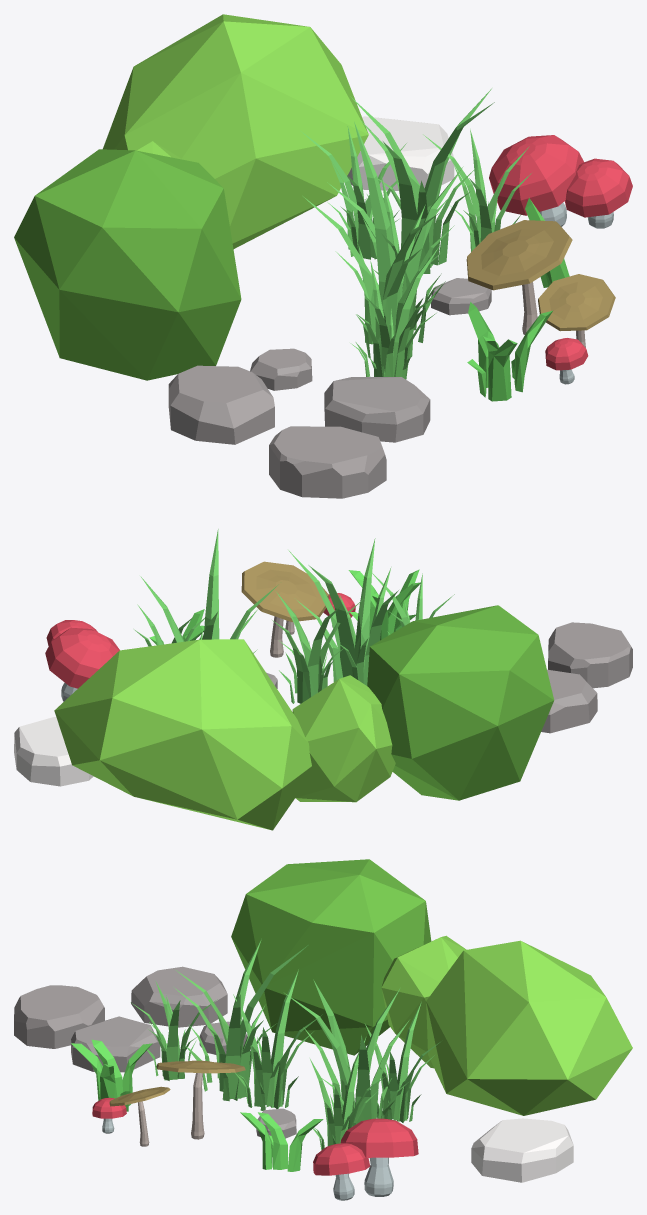
The model's file is vegetacion.glb.
3 views of the same model, one above another, from view 1: azimuth 30°, elevation 25°; view 2: azimuth 150°, elevation 25°; view 3: azimuth 270°, elevation 25° (orthographic). The views are drawn at different scales.
Parts seen in each view (by area): view 1: Object_26, Object_43; view 2: Object_26, Object_43; view 3: Object_26, Object_43.
Boxes of the visible parts, x1,y1,x2,y2 form: Object_26: [14, 14, 632, 498]; Object_43: [347, 116, 454, 190]; Object_26: [45, 529, 632, 830]; Object_43: [14, 717, 93, 786]; Object_26: [14, 859, 632, 1200]; Object_43: [471, 1118, 573, 1182].
Bounding box in the file's own units: 1.18 × 0.4292 × 1.33.
2 materials, 2 textured.
